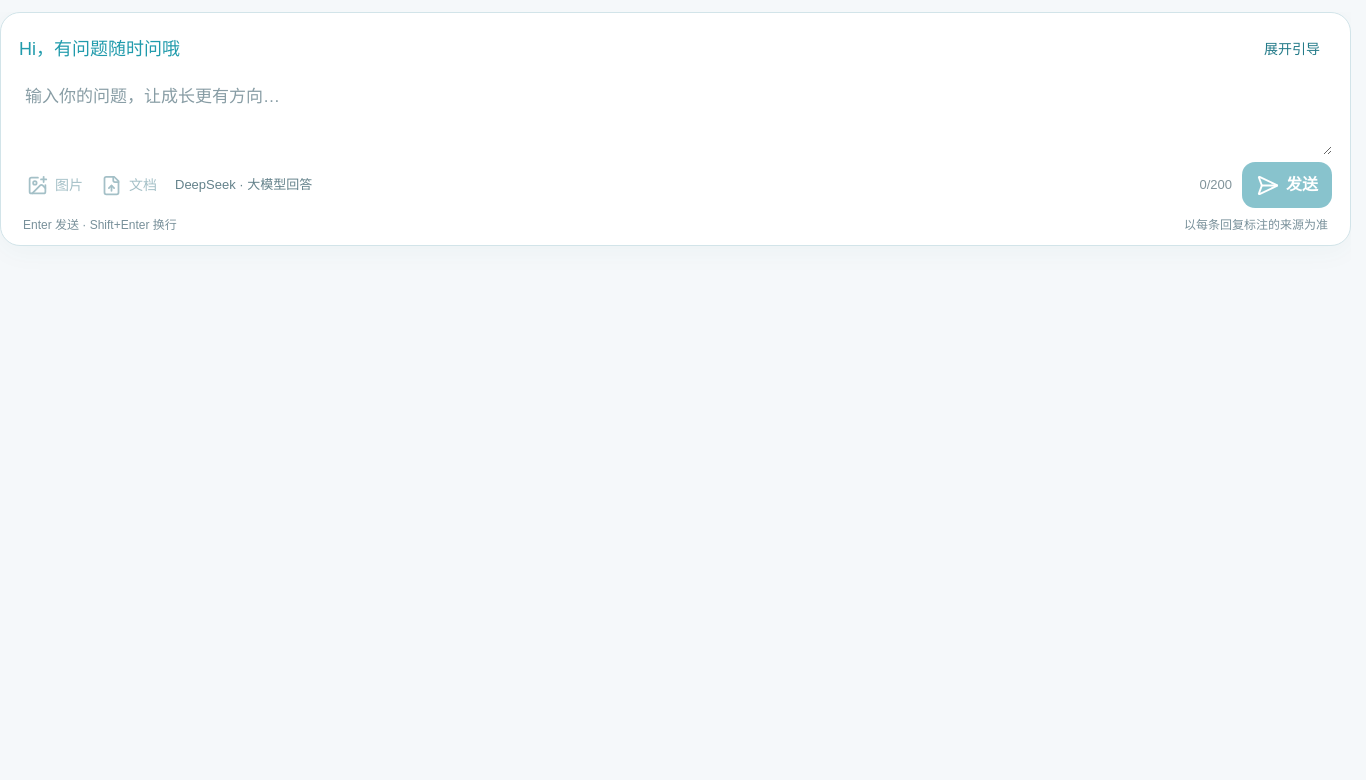
it: GrowthAssistantEntry › uses the project logo in the welcome area
Click the button with test id "toggle-guide" at (1292, 49), box [1252,27,1332,71]
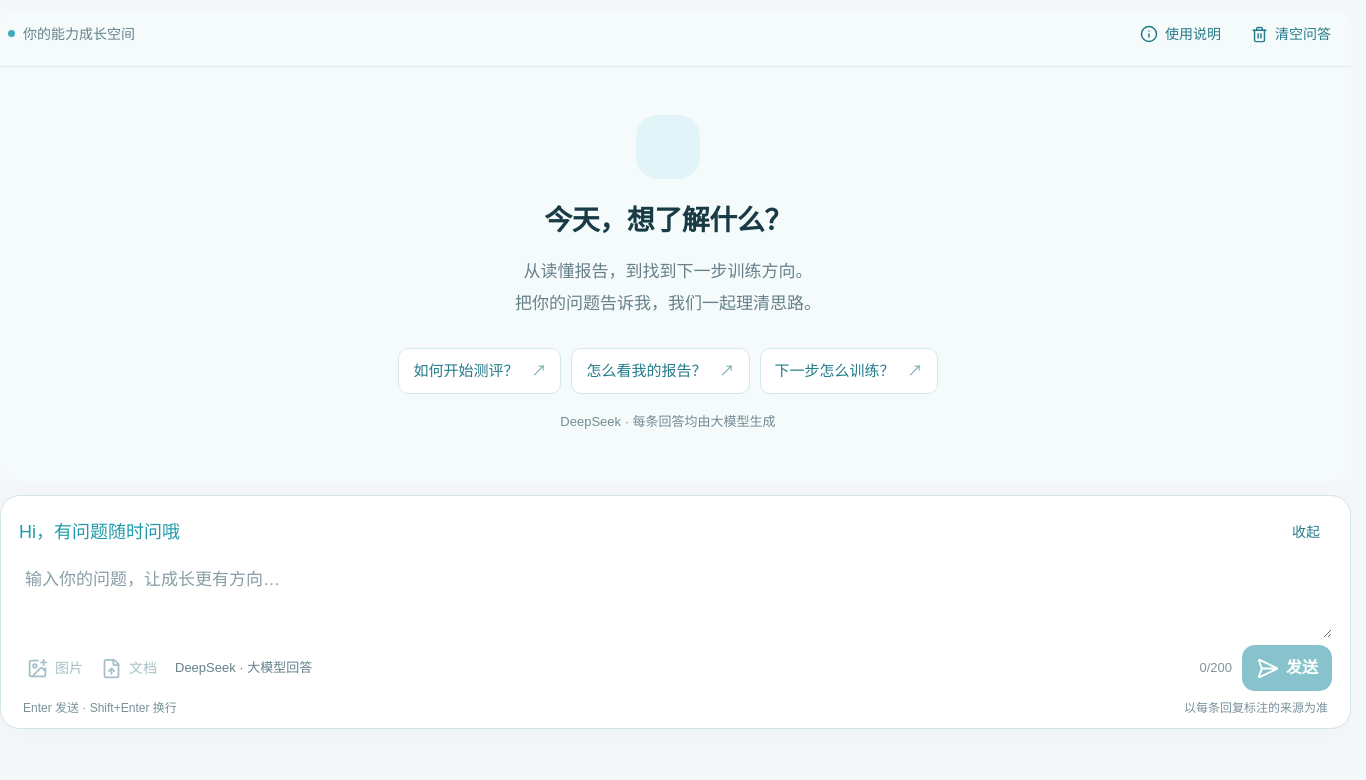
Result: the element with class "conversation-welcome" shows "今天，想了解什么？" at [544,205,792,236]
